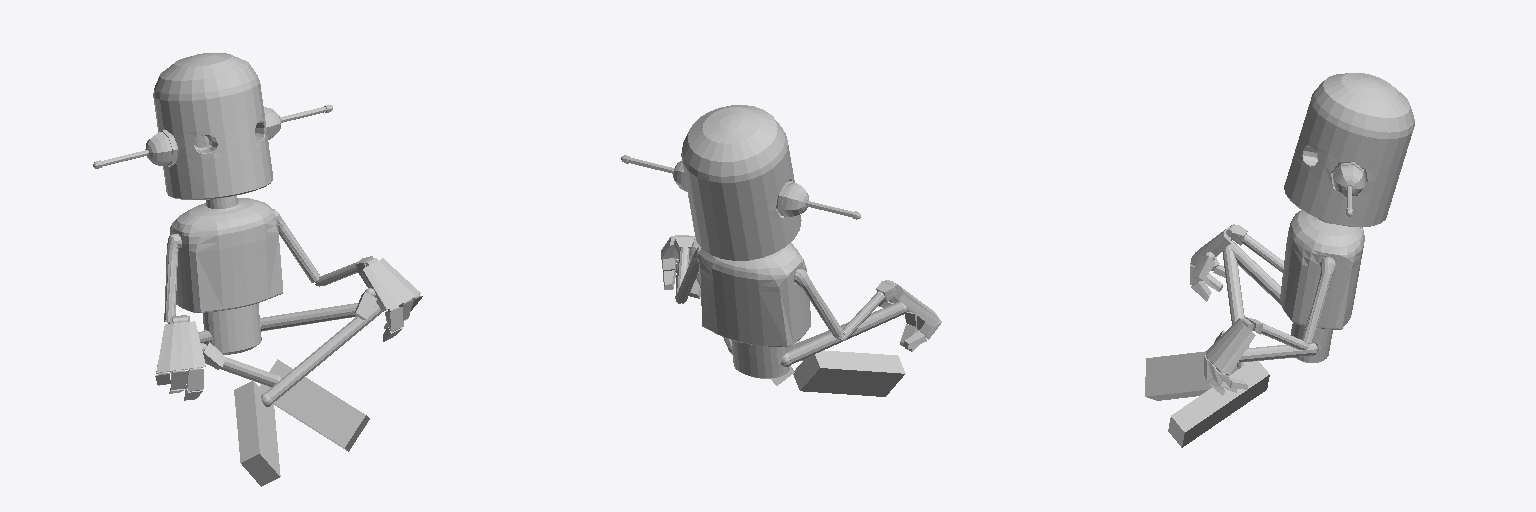
Rendered from Robot.obj.
3 views of the same model, side by side, from view 1: azimuth 30°, elevation 25°; view 2: azimuth 150°, elevation 25°; view 3: azimuth 270°, elevation 25° (orthographic).
Parts seen in each view (by area): view 1: set4 set10 polySurface97, polySurface97, set4 polySurface97; view 2: set4 set10 polySurface97, polySurface97, set4 polySurface97; view 3: set4 set10 polySurface97, polySurface97, set4 polySurface97.
Boxes of the visible parts, x1,y1,x2,y2 form: set4 set10 polySurface97: [153, 53, 282, 354]; polySurface97: [155, 209, 422, 486]; set4 polySurface97: [93, 105, 332, 168]; set4 set10 polySurface97: [681, 105, 810, 378]; polySurface97: [661, 235, 941, 396]; set4 polySurface97: [621, 155, 860, 219]; set4 set10 polySurface97: [1280, 73, 1414, 362]; polySurface97: [1145, 224, 1335, 447]; set4 polySurface97: [1333, 162, 1365, 216].
Size of the model in its own units: 4.58 by 5.48 by 3.88.